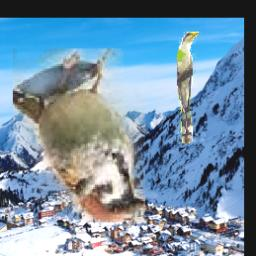Cuckoo: (177, 32, 201, 143)
Sparrow: (13, 49, 145, 223)
